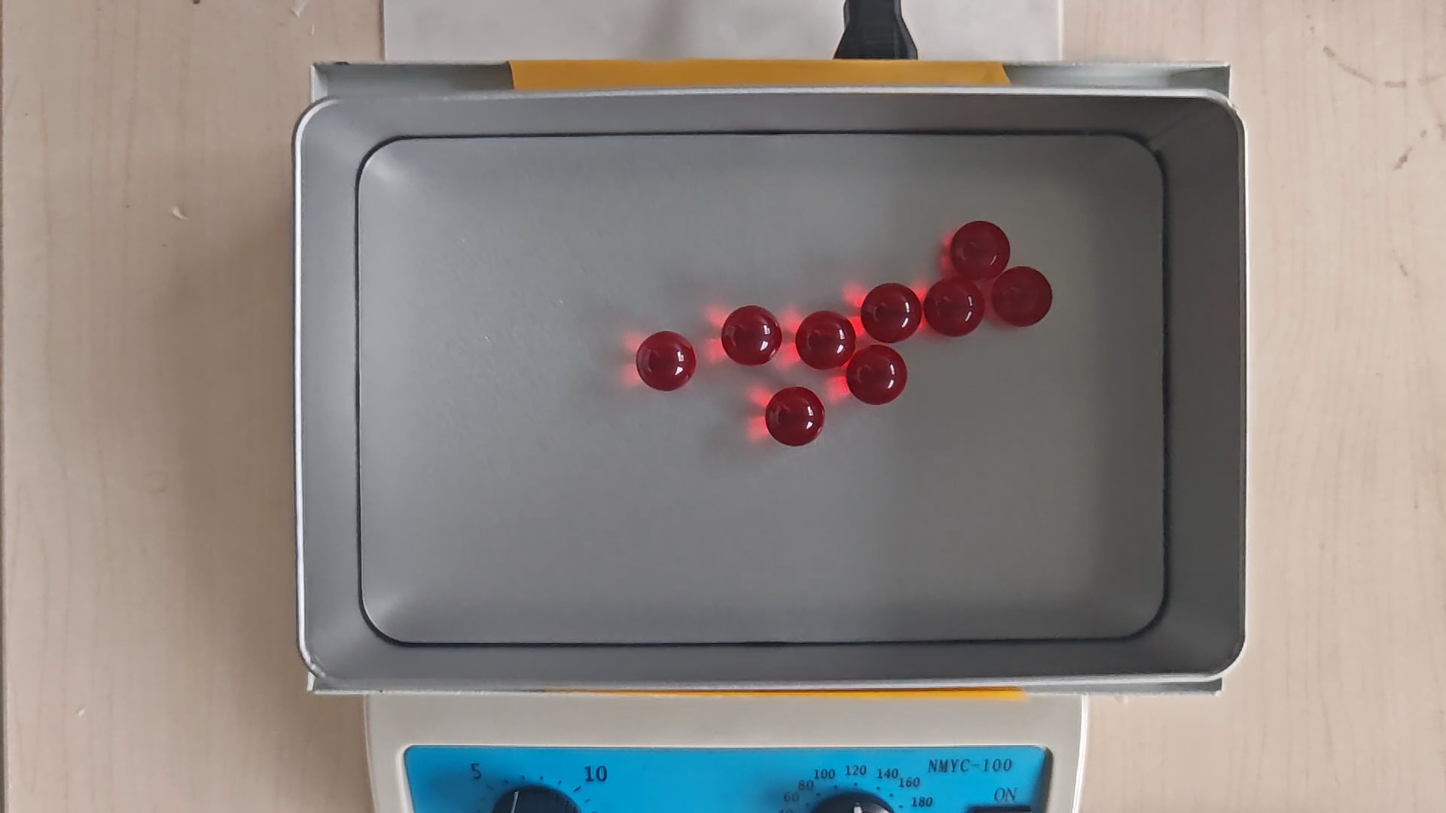ball: (635, 331, 697, 393), (721, 304, 781, 367), (766, 386, 826, 448), (992, 267, 1052, 328), (848, 344, 907, 406), (863, 282, 922, 343), (926, 279, 986, 338), (795, 310, 854, 370), (951, 220, 1009, 280)
container: (353, 135, 1167, 637)
